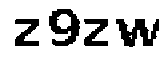9: (45, 6, 81, 48)
w: (115, 12, 160, 51)
z: (9, 16, 43, 48), (83, 16, 110, 49)
